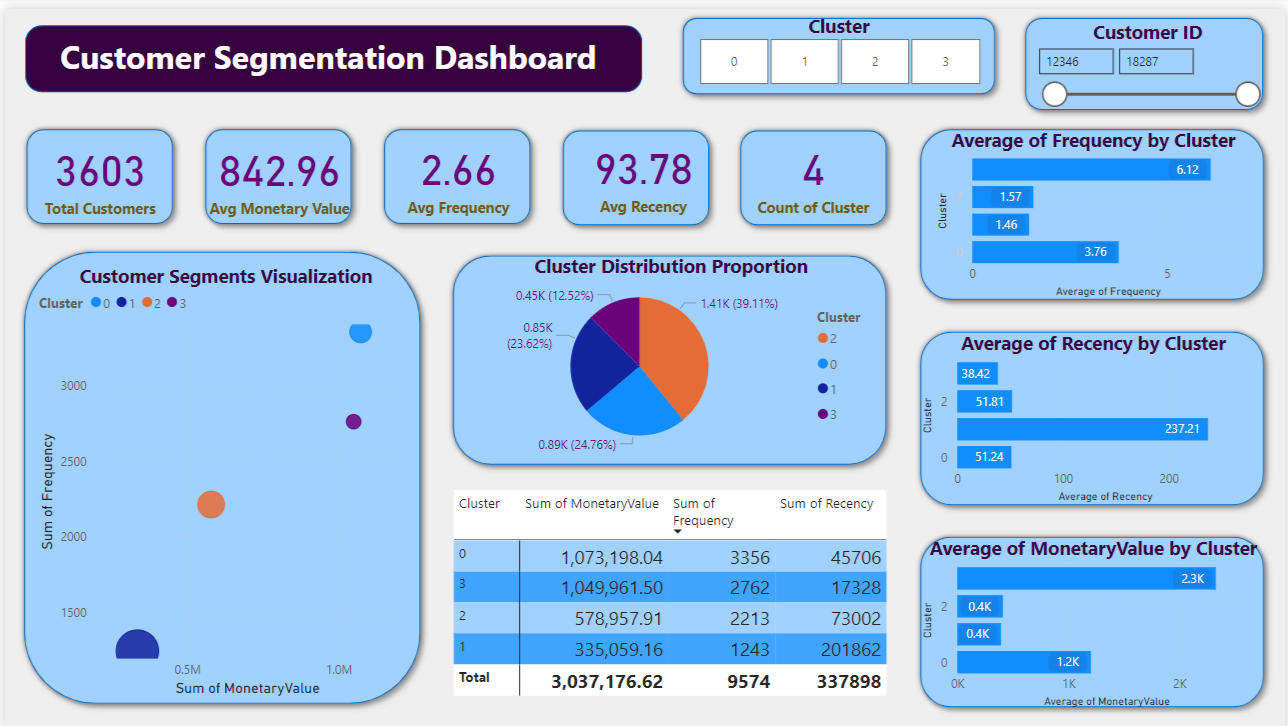

The page's visual inventory and layout, read from the dashboard file:
{"tool":"powerbi","page":{"name":"Page 1","canvas":[1280,720],"ordinal":0},"visuals":[{"type":"shape","box":[191.4,111.4,164.3,112.9],"z":0},{"type":"shape","box":[370,111.4,164.3,112.9],"z":1000},{"type":"shape","box":[12.9,111.4,164.3,112.9],"z":2000},{"type":"shape","box":[548.6,112.9,164.3,112.9],"z":3000},{"type":"shape","box":[725.7,112.9,164.3,112.9],"z":4000},{"type":"card","fields":{"Values":["Avg(cleaned_aggregated_customer_data.MonetaryValue)"]},"box":[192.9,111.4,164.3,112.9],"z":5000},{"type":"card","fields":{"Values":["Avg(cleaned_aggregated_customer_data.Frequency)"]},"box":[371.4,110,164.3,114.3],"z":6000},{"type":"card","fields":{"Values":["Count(cleaned_aggregated_customer_data.Customer ID)"]},"box":[14.3,111.4,162.9,112.9],"z":7000},{"type":"card","fields":{"Values":["Avg(cleaned_aggregated_customer_data.Recency)"]},"box":[555.7,110,164.3,111.4],"z":8000},{"type":"card","fields":{"Values":["CountNonNull(cluster_summary.Cluster)"]},"box":[725.7,110,164.3,112.9],"z":9000},{"type":"shape","box":[20.3,15.8,617.1,67.1],"z":10000},{"type":"textbox","box":[50.3,21.5,577.1,57.1],"z":11000},{"type":"shape","box":[438.6,237.1,451.4,227.1],"z":12000},{"type":"pieChart","title":"Cluster Distribution Proportion","fields":{"Y":["CountNonNull(cleaned_aggregated_customer_data.Customer ID)"],"Category":["cleaned_aggregated_customer_data.Cluster"]},"box":[452.9,244.3,427.1,208.6],"z":13000},{"type":"pivotTable","fields":{"Values":["Sum(cleaned_aggregated_customer_data.MonetaryValue)","Sum(cleaned_aggregated_customer_data.Frequency)","Sum(cleaned_aggregated_customer_data.Recency)"],"Rows":["cleaned_aggregated_customer_data.Cluster"]},"box":[444.3,475.7,447.1,217.1],"z":14000},{"type":"shape","box":[10,234.3,414.3,470],"z":15000},{"type":"scatterChart","title":"Customer Segments Visualization","fields":{"X":["Sum(cleaned_aggregated_customer_data.MonetaryValue)"],"Y":["Sum(cleaned_aggregated_customer_data.Frequency)"],"Size":["Sum(cleaned_aggregated_customer_data.Recency)"],"Series":["cleaned_aggregated_customer_data.Cluster"]},"box":[28.6,254.3,384.3,438.6],"z":16000},{"type":"shape","box":[905.7,518.6,361.4,188.6],"z":17000},{"type":"shape","box":[905.7,111.4,361.4,188.6],"z":18000},{"type":"shape","box":[905.7,314.3,361.4,191.4],"z":19000},{"type":"barChart","fields":{"Category":["cleaned_aggregated_customer_data.Cluster"],"Y":["Avg(cleaned_aggregated_customer_data.MonetaryValue)"]},"box":[912.9,525.7,351.4,177.1],"z":20000},{"type":"barChart","fields":{"Category":["cleaned_aggregated_customer_data.Cluster"],"Y":["Avg(cleaned_aggregated_customer_data.Recency)"]},"box":[912.9,321.4,351.4,177.1],"z":21000},{"type":"barChart","fields":{"Category":["cleaned_aggregated_customer_data.Cluster"],"Y":["Avg(cleaned_aggregated_customer_data.Frequency)"]},"box":[927.1,117.1,321.4,175.7],"z":22000},{"type":"shape","box":[668.6,0,330,94.3],"z":23000},{"type":"shape","box":[1011.4,0,255.7,110],"z":24000},{"type":"slicer","title":"Cluster","fields":{"Values":["cleaned_aggregated_customer_data.Cluster"]},"box":[668.6,4.3,330,78.6],"z":25000},{"type":"slicer","title":"Customer ID","fields":{"Values":["cleaned_aggregated_customer_data.Customer ID"]},"box":[1021.4,10,242.9,100],"z":26000}]}

Visuals, with their boxes in screenshot pixels (x1, y1, x2, y2), scaled from the page's 1280x720 canvas onto the 1288x726 screenshot:
shape: 193, 112, 358, 226
shape: 372, 112, 538, 226
shape: 13, 112, 178, 226
shape: 552, 114, 717, 228
shape: 730, 114, 896, 228
card - Avg(cleaned_aggregated_customer_data.MonetaryValue): 194, 112, 359, 226
card - Avg(cleaned_aggregated_customer_data.Frequency): 374, 111, 539, 226
card - Count(cleaned_aggregated_customer_data.Customer ID): 14, 112, 178, 226
card - Avg(cleaned_aggregated_customer_data.Recency): 559, 111, 725, 223
card - CountNonNull(cluster_summary.Cluster): 730, 111, 896, 225
shape: 20, 16, 641, 84
textbox: 51, 22, 631, 79
shape: 441, 239, 896, 468
"Cluster Distribution Proportion" pieChart: 456, 246, 886, 457
pivotTable - Sum(cleaned_aggregated_customer_data.MonetaryValue) x Sum(cleaned_aggregated_customer_data.Frequency): 447, 480, 897, 699
shape: 10, 236, 427, 710
"Customer Segments Visualization" scatterChart: 29, 256, 415, 699
shape: 911, 523, 1275, 713
shape: 911, 112, 1275, 302
shape: 911, 317, 1275, 510
barChart - cleaned_aggregated_customer_data.Cluster x Avg(cleaned_aggregated_customer_data.MonetaryValue): 919, 530, 1272, 709
barChart - cleaned_aggregated_customer_data.Cluster x Avg(cleaned_aggregated_customer_data.Recency): 919, 324, 1272, 503
barChart - cleaned_aggregated_customer_data.Cluster x Avg(cleaned_aggregated_customer_data.Frequency): 933, 118, 1256, 295
shape: 673, 0, 1005, 95
shape: 1018, 0, 1275, 111
"Cluster" slicer: 673, 4, 1005, 84
"Customer ID" slicer: 1028, 10, 1272, 111
